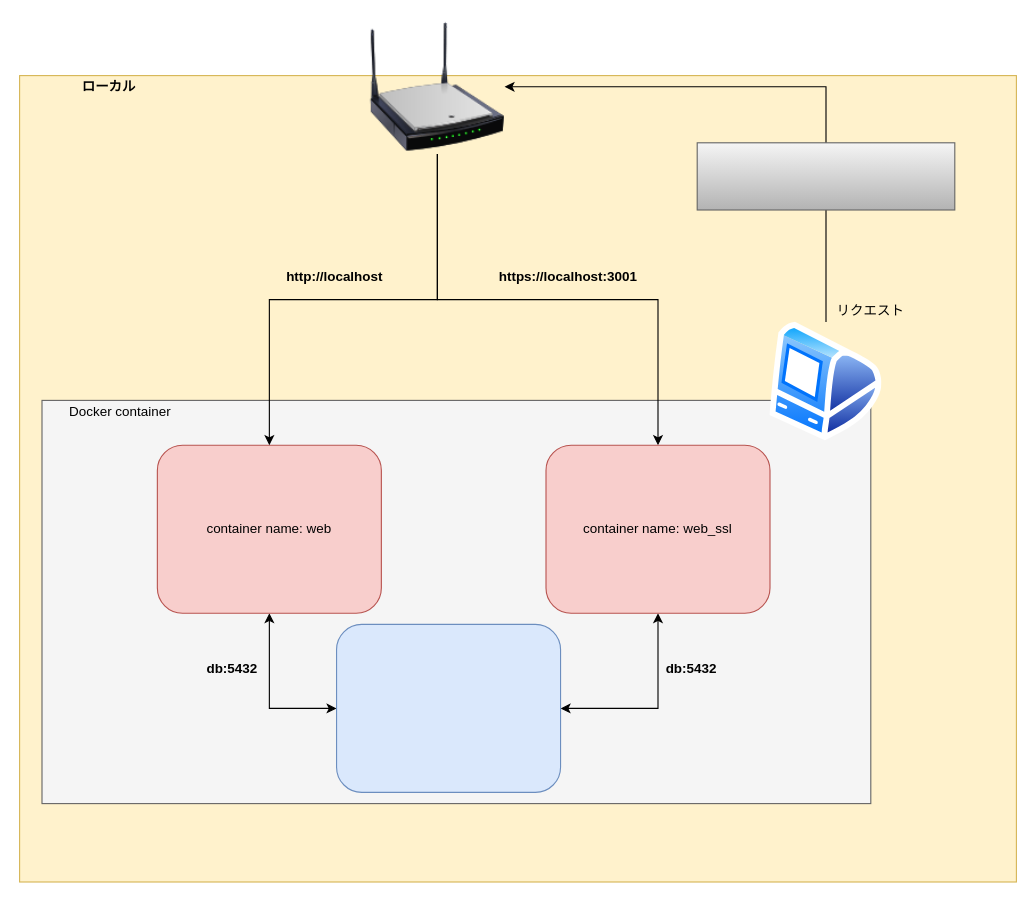
The diagram is 1036 pixels wide and 902 high, and some of its shapes have lost their labels. The shapes that lost their labels are listed below. From the top down, each one's centre as x and y in pixels, then its label:
point 825,176: WireShark
point 448,707: container name: db
